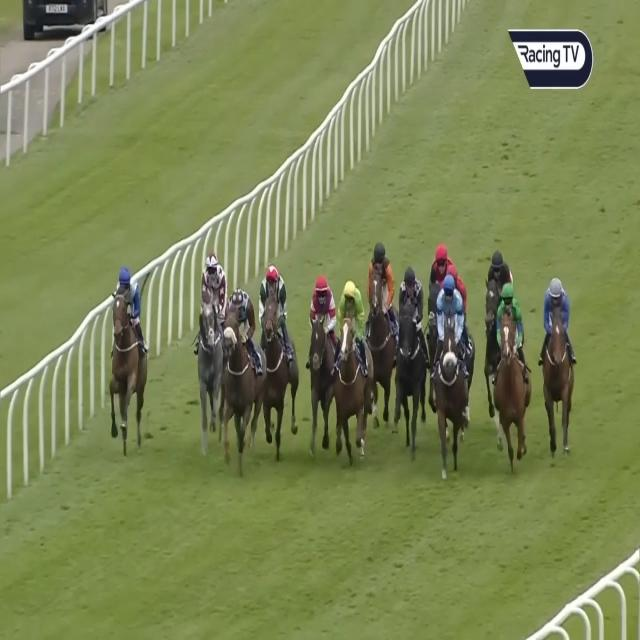horses-racing: (429, 278, 469, 468), (110, 262, 151, 446), (541, 274, 581, 443), (220, 290, 257, 440), (494, 286, 527, 454), (258, 260, 287, 446), (197, 250, 225, 441), (305, 274, 335, 445), (394, 263, 425, 424), (334, 283, 364, 443), (366, 239, 395, 401), (482, 245, 508, 372), (426, 243, 452, 331), (446, 264, 468, 315)
